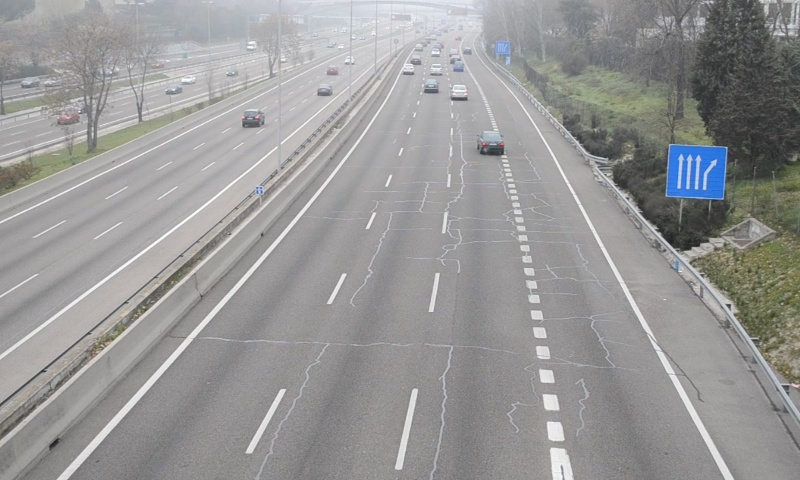car: (478, 130, 506, 156), (449, 83, 469, 101)
